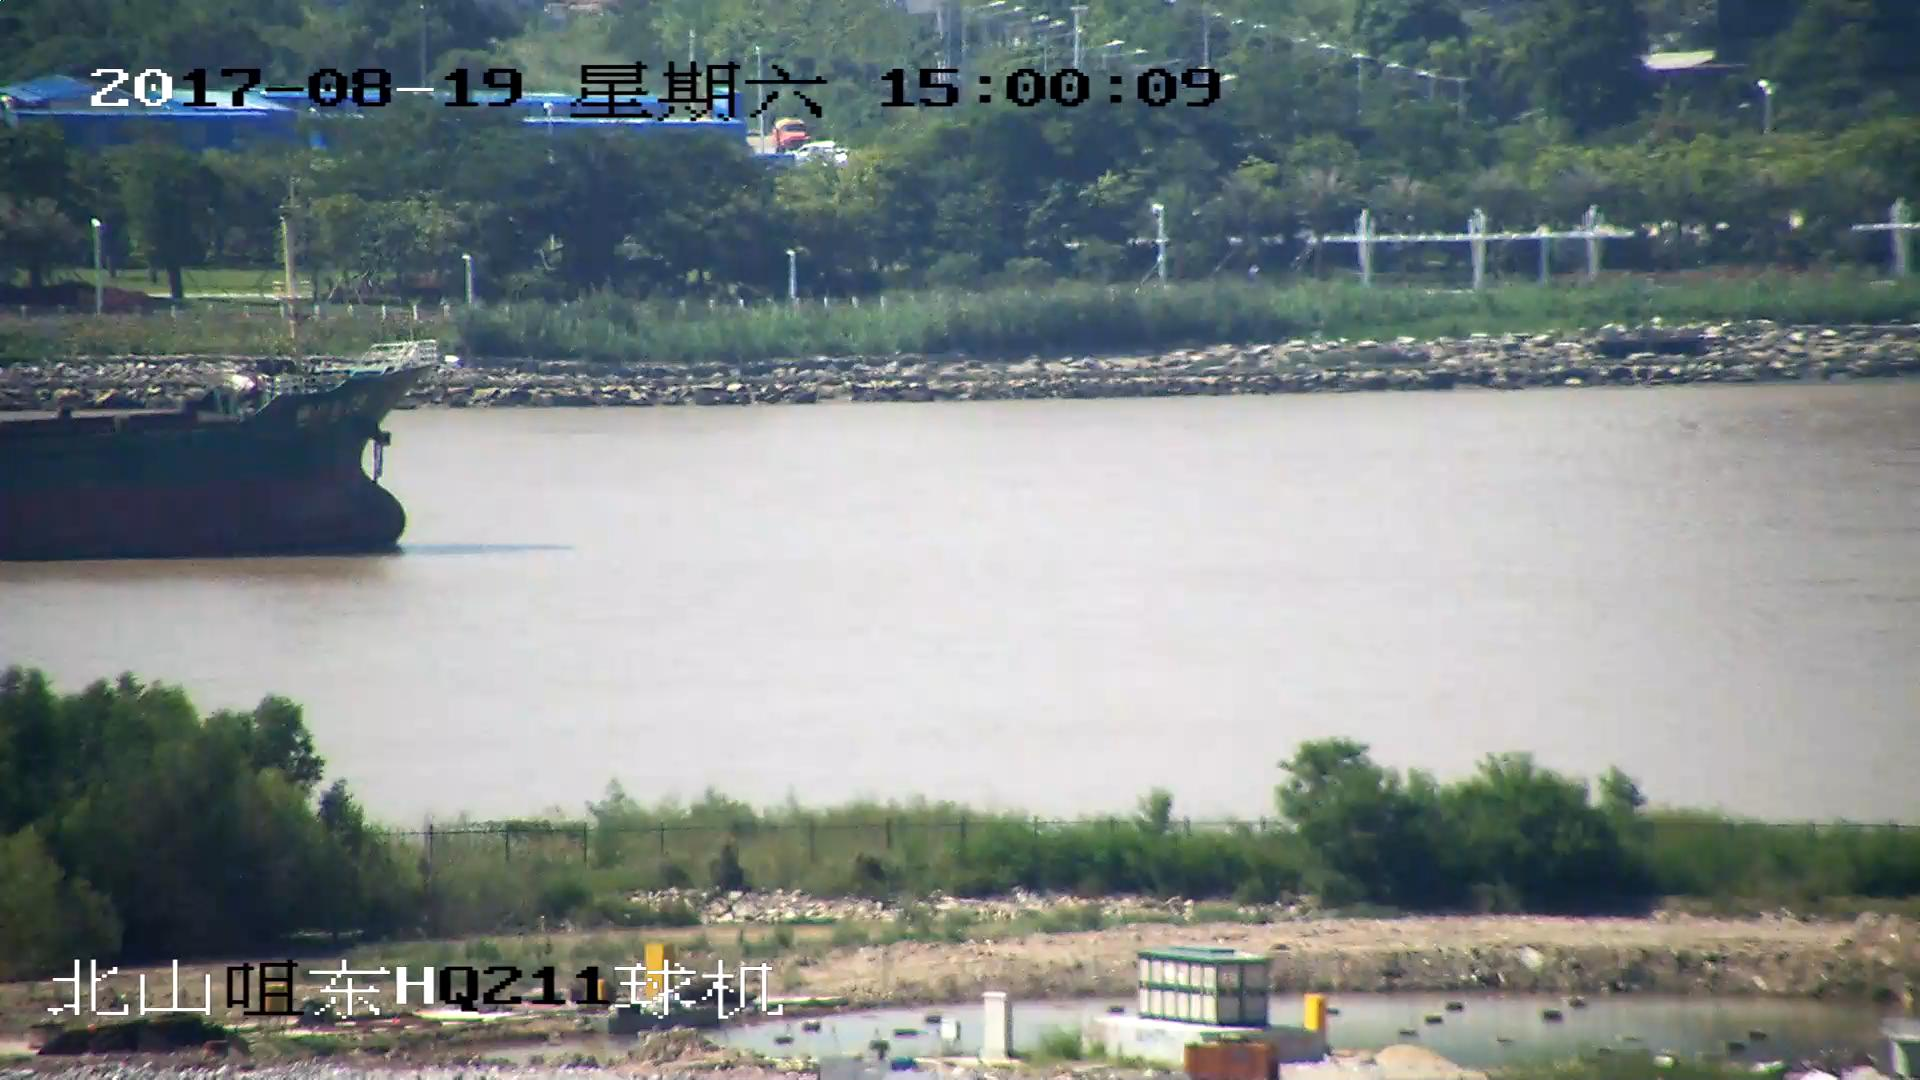general cargo ship: (1, 327, 423, 564)
